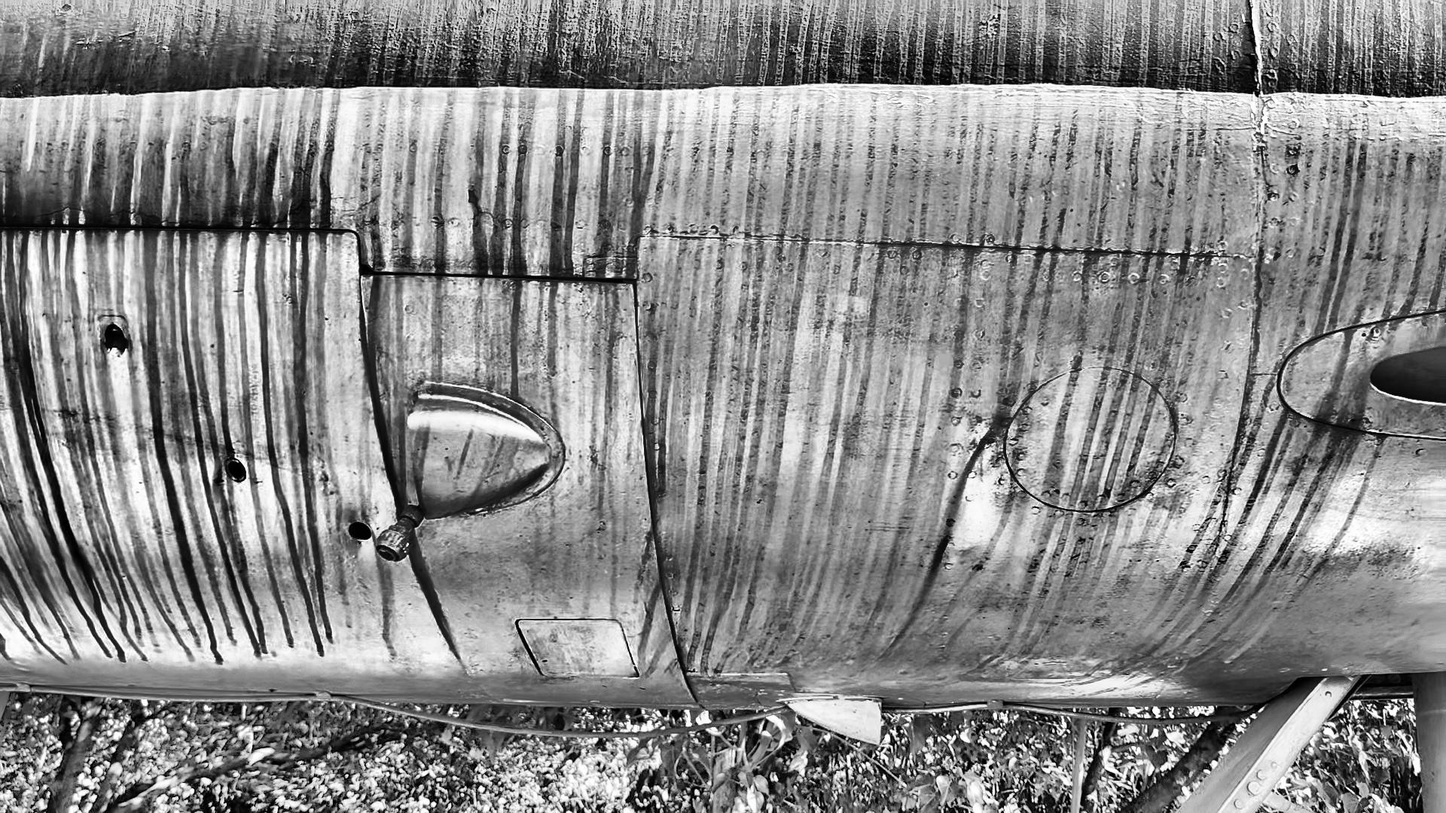dent: (940, 427, 993, 545)
missing-head: (1362, 332, 1366, 338), (1351, 418, 1356, 422)
paint-peel-off: (468, 190, 481, 214)
